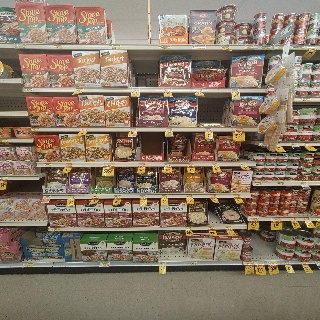All PRICE TAGS: (298, 97, 311, 102), (293, 45, 305, 50), (109, 45, 122, 49), (159, 45, 172, 49), (192, 45, 205, 49), (15, 44, 27, 48), (260, 45, 272, 49), (270, 217, 281, 221), (23, 87, 34, 91), (100, 262, 110, 266), (267, 261, 277, 265), (254, 261, 264, 265), (244, 45, 254, 49), (188, 261, 197, 265), (244, 261, 253, 265), (24, 263, 33, 267), (275, 45, 284, 49), (53, 44, 62, 48), (221, 45, 230, 49), (163, 88, 172, 92), (232, 128, 244, 131), (283, 260, 290, 265), (104, 163, 115, 166), (303, 142, 311, 146), (255, 182, 263, 186), (303, 217, 311, 221), (132, 88, 140, 92), (194, 88, 202, 92), (231, 88, 239, 92), (31, 127, 39, 131), (165, 127, 173, 131), (205, 127, 213, 131), (43, 195, 51, 199), (50, 228, 60, 231), (248, 218, 258, 221), (186, 194, 193, 198), (160, 194, 167, 198), (291, 142, 298, 146), (290, 217, 297, 221), (0, 138, 7, 142), (308, 45, 315, 49), (81, 127, 88, 131), (44, 163, 51, 167), (240, 162, 247, 166), (138, 163, 146, 166), (113, 195, 121, 198), (0, 177, 8, 180), (76, 88, 84, 91), (129, 128, 137, 131), (65, 163, 73, 166), (163, 163, 171, 166), (159, 262, 166, 265), (233, 194, 240, 197), (209, 194, 216, 197), (140, 195, 147, 198), (277, 182, 284, 185), (300, 182, 307, 185), (300, 261, 307, 264), (187, 163, 194, 166), (211, 163, 218, 166), (68, 195, 75, 198), (93, 195, 100, 198), (315, 217, 320, 221), (226, 226, 232, 229), (208, 226, 214, 229), (315, 261, 320, 264), (185, 227, 192, 229)
